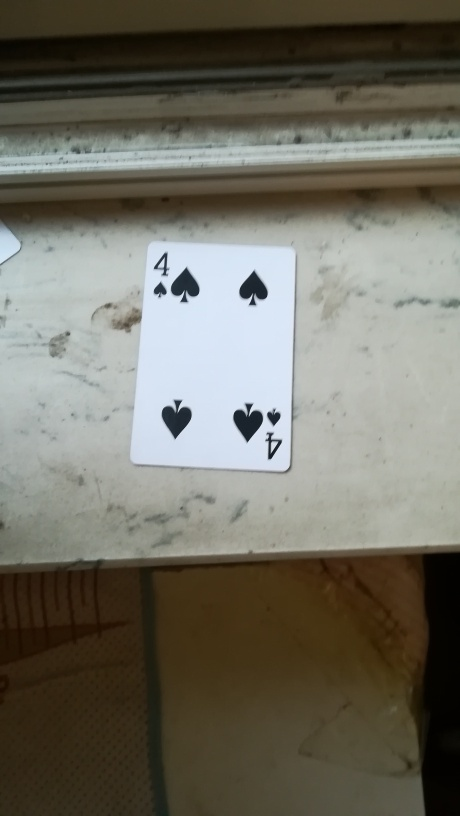ht 4: (130, 237, 297, 472)
